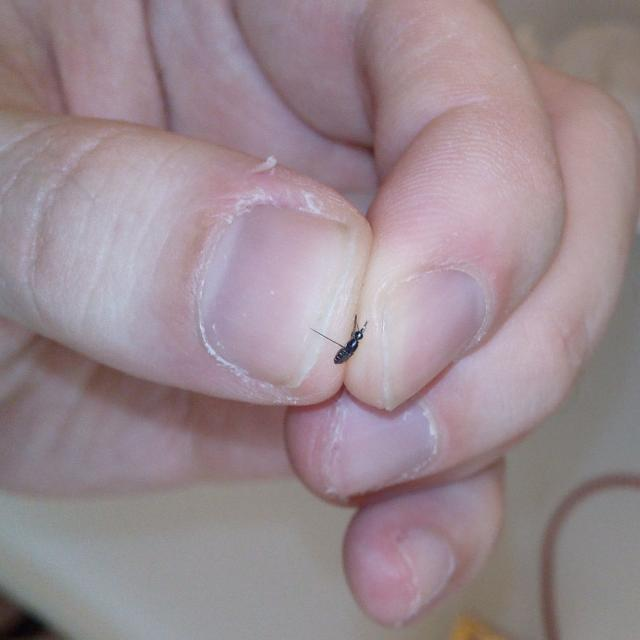albopictus: (307, 309, 377, 381)
